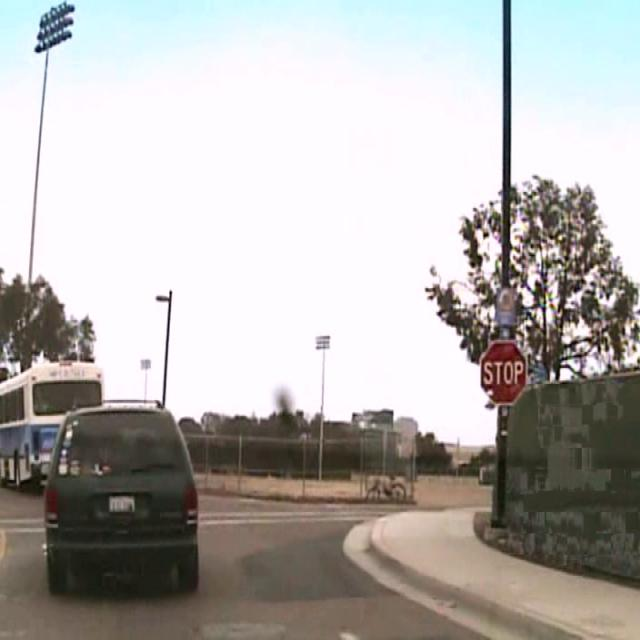stop: (479, 339, 527, 405)
